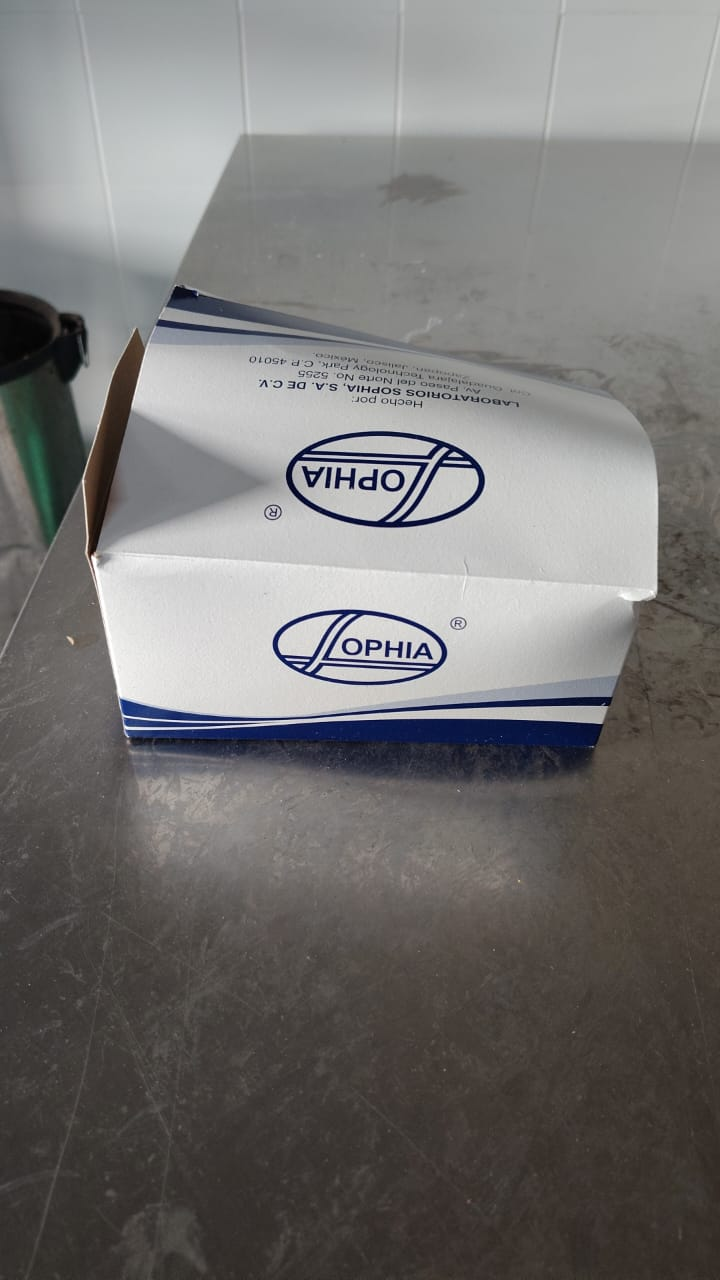Carton: (82, 286, 659, 752)
